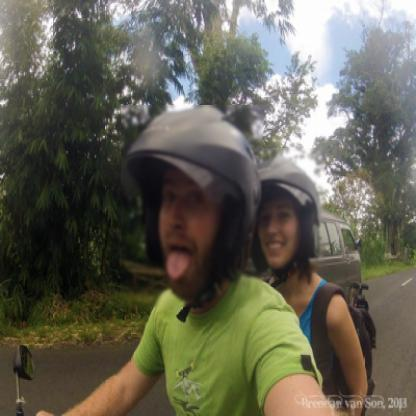Helmet: (117, 95, 264, 310), (256, 153, 325, 288)
